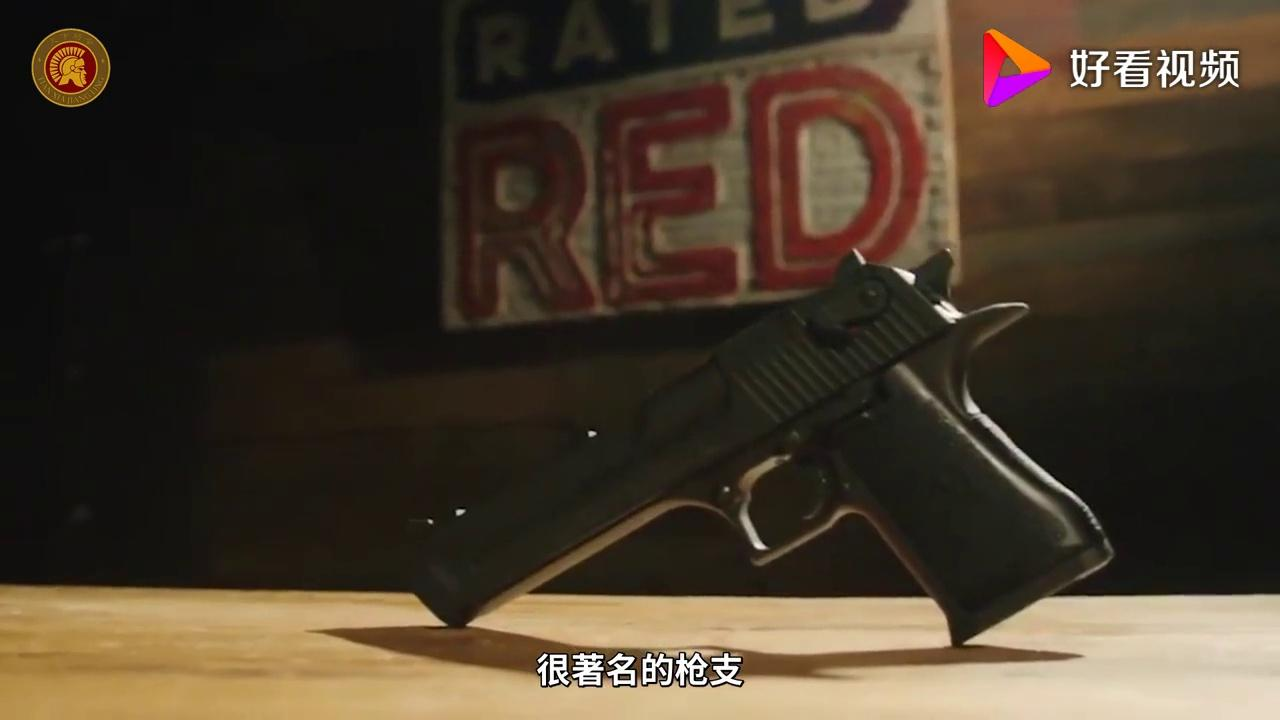gun: (398, 236, 1115, 629)
